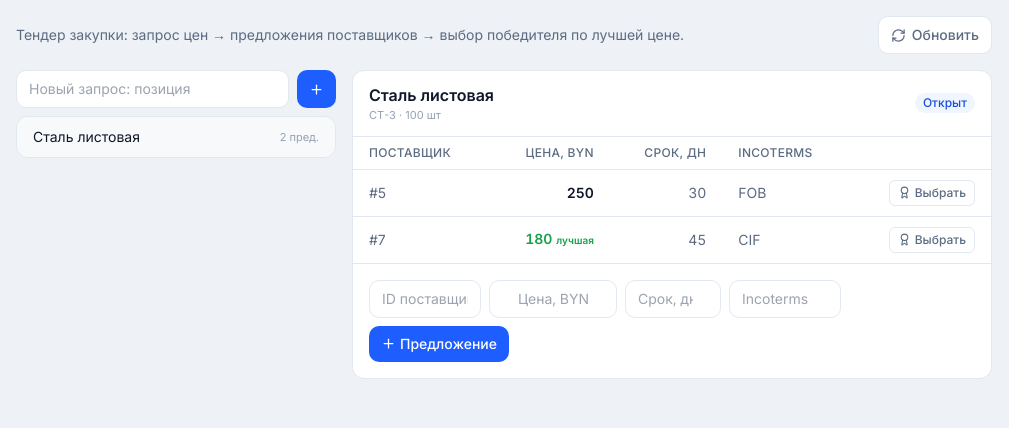
ProcurementRfqView › добавление предложения без цены даёт ошибку и не зовёт addBid
The image size is (1009, 428).
Click the button "Предложение": (439,344) [369,326,509,362]
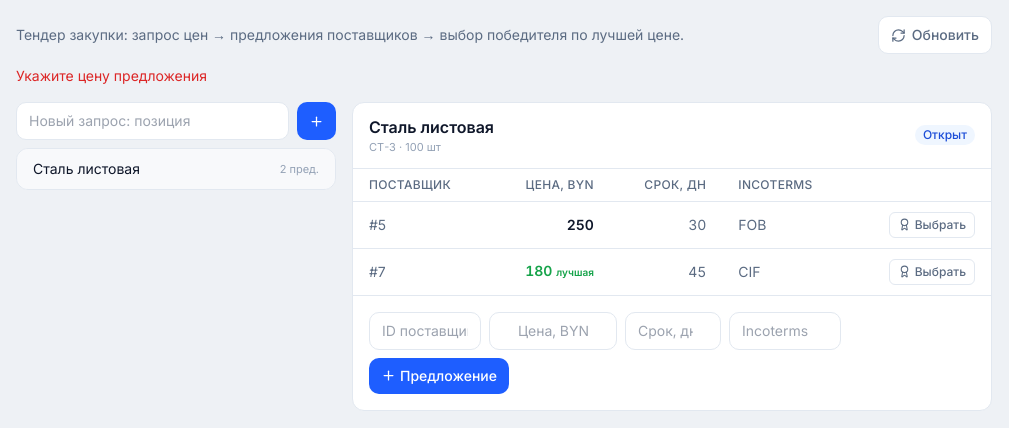
Now the text "Укажите цену предложения" is shown, box [16,67,207,84]
